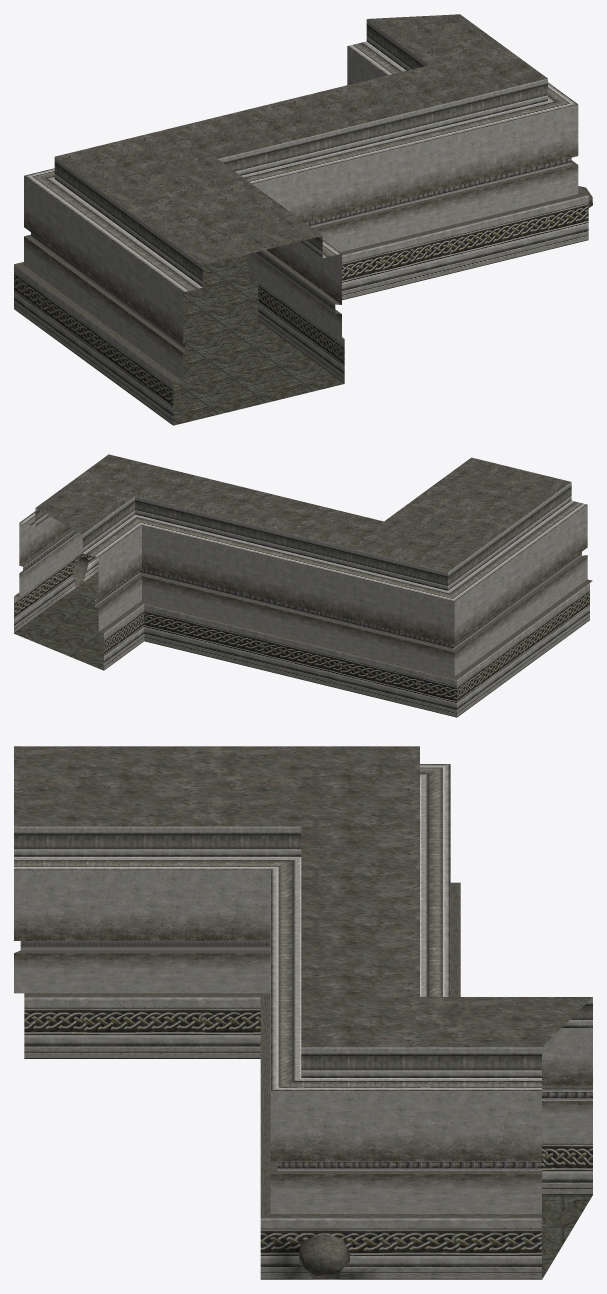
Rendered from DWARF_PALACE_FORGE_HALLWAY02B01.fbx.
3 views of the same model, one above another, from view 1: azimuth 30°, elevation 25°; view 2: azimuth 150°, elevation 25°; view 3: azimuth 270°, elevation 25° (orthographic). The views are drawn at different scales.
Visible parts, largest first — view 1: DWARF_PALACE_FORGE_HALLWAY02B01; view 2: DWARF_PALACE_FORGE_HALLWAY02B01; view 3: DWARF_PALACE_FORGE_HALLWAY02B01.
Boxes of the visible parts, bbox=[...] form: DWARF_PALACE_FORGE_HALLWAY02B01: bbox=[14, 14, 592, 425]; DWARF_PALACE_FORGE_HALLWAY02B01: bbox=[14, 454, 592, 717]; DWARF_PALACE_FORGE_HALLWAY02B01: bbox=[14, 746, 592, 1279].
Bounding box in the file's own units: 243489 × 70000 × 170721.
7 materials, 7 textured.
